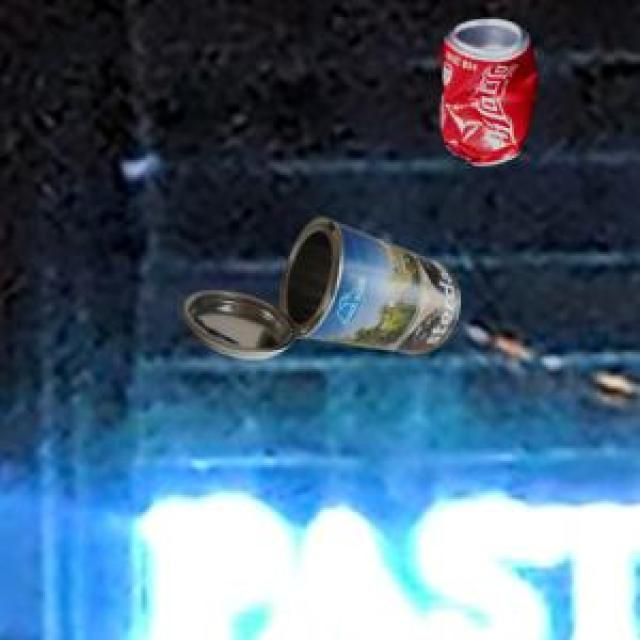logam: (178, 214, 453, 355), (438, 16, 532, 163)
